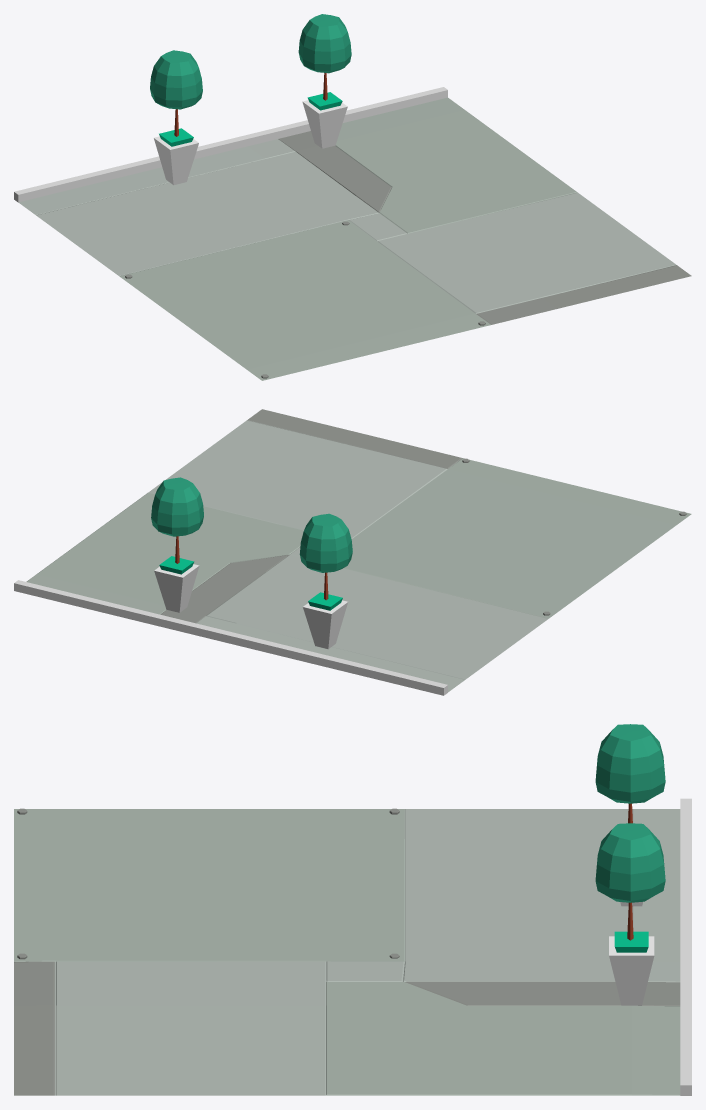
The picture shows the model from 3 angles, top to bottom: view 1: azimuth 30°, elevation 25°; view 2: azimuth 150°, elevation 25°; view 3: azimuth 270°, elevation 25°; orthographic projection. The views are drawn at different scales.
Parts seen in each view (by area): view 1: Scifi_Panel_04_Plaza014_group4.012_Scifi_Panel_04_Plaza014_g, Cube.637_Cube.754, base_singlePot03.013, base_singlePot03.012; view 2: Scifi_Panel_04_Plaza014_group4.012_Scifi_Panel_04_Plaza014_g, Cube.637_Cube.754, base_singlePot03.013, base_singlePot03.012; view 3: Scifi_Panel_04_Plaza014_group4.012_Scifi_Panel_04_Plaza014_g, base_singlePot03.012, base_singlePot03.013, Cube.637_Cube.754.
Boxes of the visible parts, <box> form: Scifi_Panel_04_Plaza014_group4.012_Scifi_Panel_04_Plaza014_g: <box>18,97,691,380</box>; Cube.637_Cube.754: <box>14,87,447,202</box>; base_singlePot03.013: <box>150,50,202,185</box>; base_singlePot03.012: <box>298,14,351,148</box>; Scifi_Panel_04_Plaza014_group4.012_Scifi_Panel_04_Plaza014_g: <box>26,409,691,692</box>; Cube.637_Cube.754: <box>14,580,447,695</box>; base_singlePot03.013: <box>299,513,352,649</box>; base_singlePot03.012: <box>151,477,203,612</box>; Scifi_Panel_04_Plaza014_group4.012_Scifi_Panel_04_Plaza014_g: <box>14,808,680,1095</box>; base_singlePot03.012: <box>595,823,665,1005</box>; base_singlePot03.013: <box>595,724,665,906</box>; Cube.637_Cube.754: <box>680,798,691,1095</box>.
Bounding box in the file's own units: 10 × 2.78 × 10.
